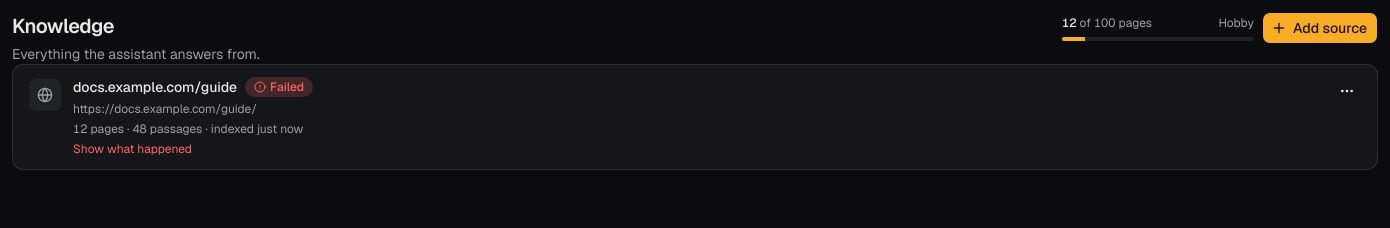
Test case: KnowledgeScreen › shows the failure reason when asked and lets the row be re-indexed
Click the button "Show what happened" at x=132, y=149, box [73,141,192,157]
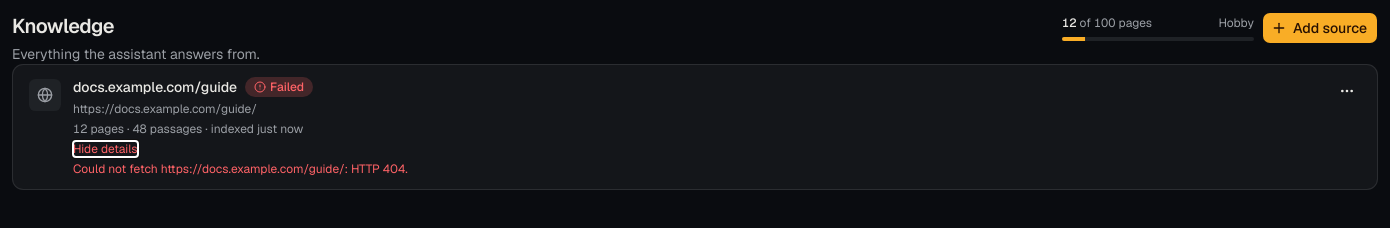
Now the text "Could not fetch https://docs.example.com/guide/: HTTP 404." is shown, box [73,161,408,177]
Click the button named "Actions for docs.example.com/guide" at x=1347, y=91, box [1333,77,1361,105]
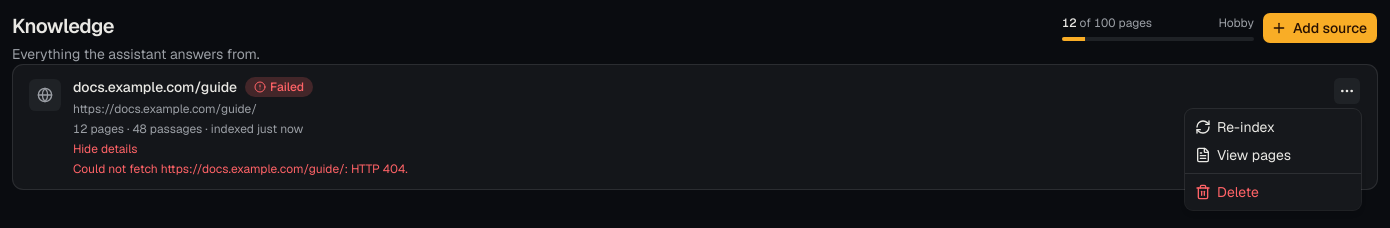
Click the menu item "Re-index" at x=1235, y=127, box [1195,118,1275,136]
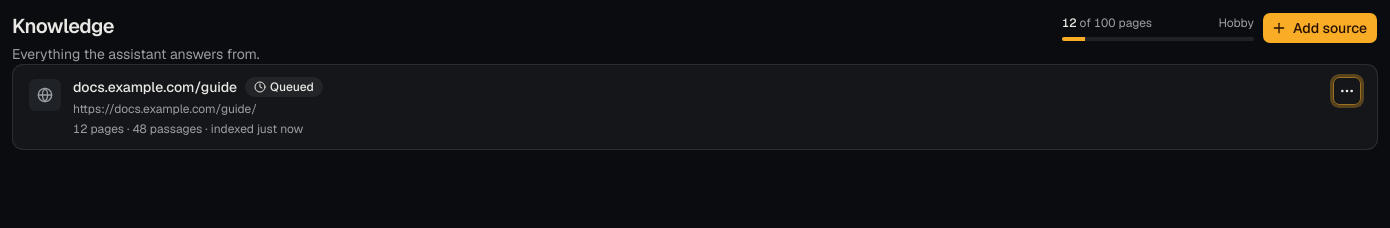
Now the text "Queued" is shown, box [245,77,323,97]
